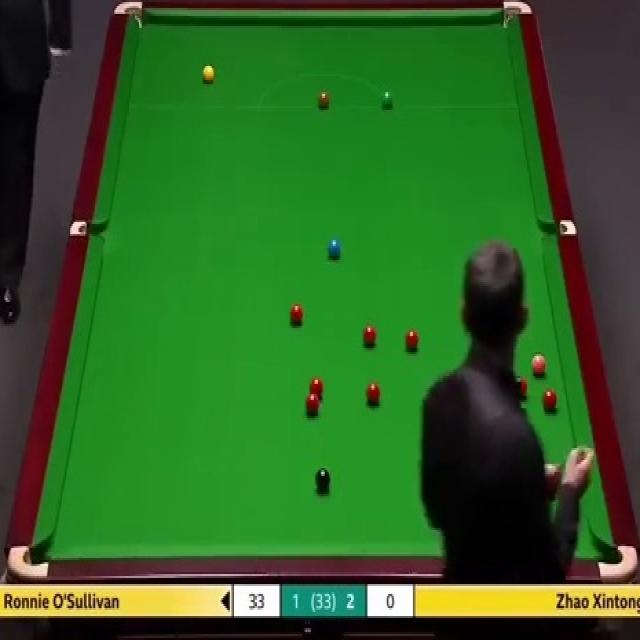black-ball: (314, 467, 331, 492)
blue-ball: (328, 239, 341, 261)
brown-ball: (318, 93, 330, 110)
green-ball: (382, 90, 393, 110)
pink-ball: (531, 353, 548, 378)
red-ball: (541, 387, 558, 413), (405, 327, 420, 352), (367, 382, 381, 407), (362, 325, 376, 349), (304, 393, 320, 413), (309, 377, 324, 398), (290, 302, 304, 324), (515, 377, 528, 399)
yellow-ball: (202, 66, 216, 86)
